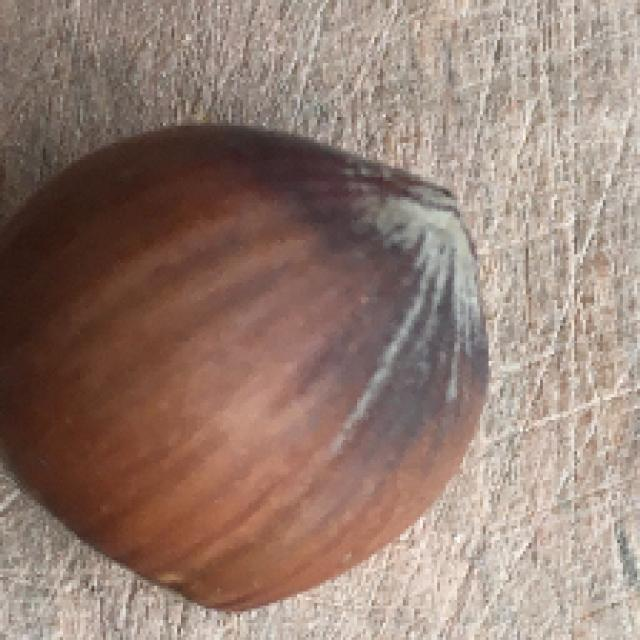damagedHazelnut: (0, 114, 494, 614)
